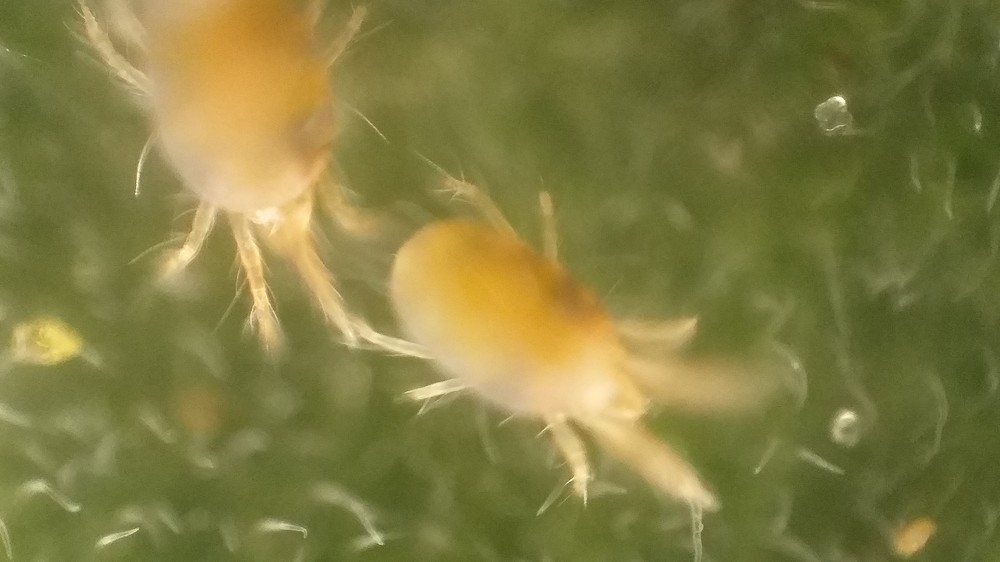Aracnido Rojo: (367, 168, 777, 517), (74, 2, 390, 370)
